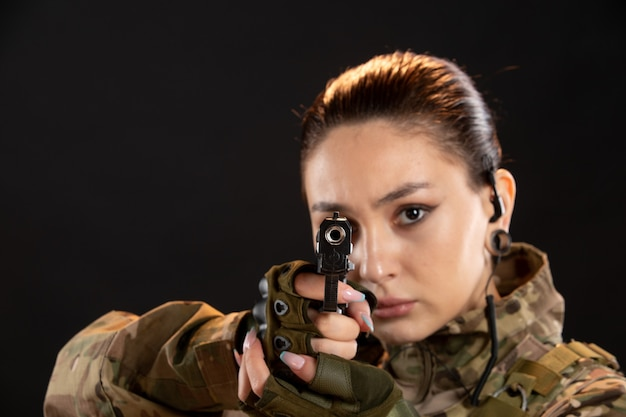gun: (315, 209, 357, 314)
